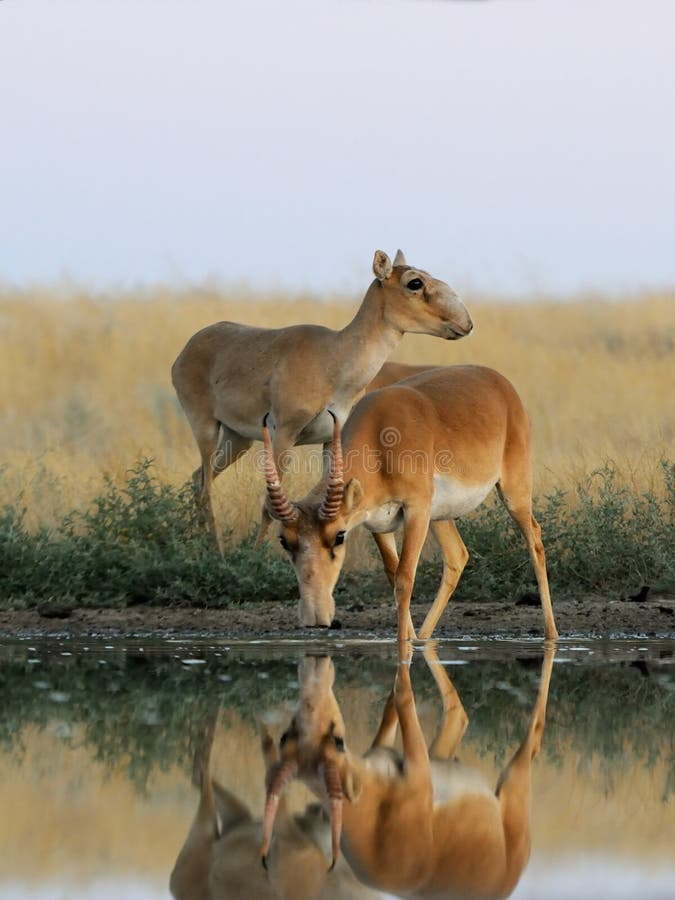saiga: (161, 246, 477, 577), (250, 380, 588, 672)
